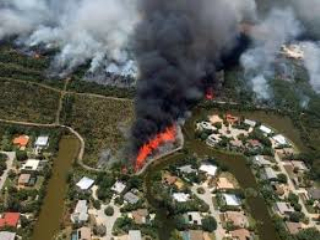fire: (129, 122, 180, 167)
smoke: (3, 3, 158, 79), (132, 4, 209, 150), (243, 14, 296, 105)
